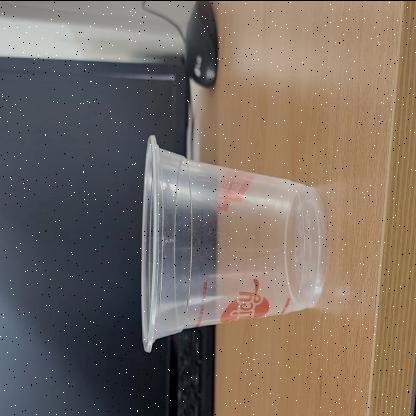Others: (140, 134, 328, 352)
